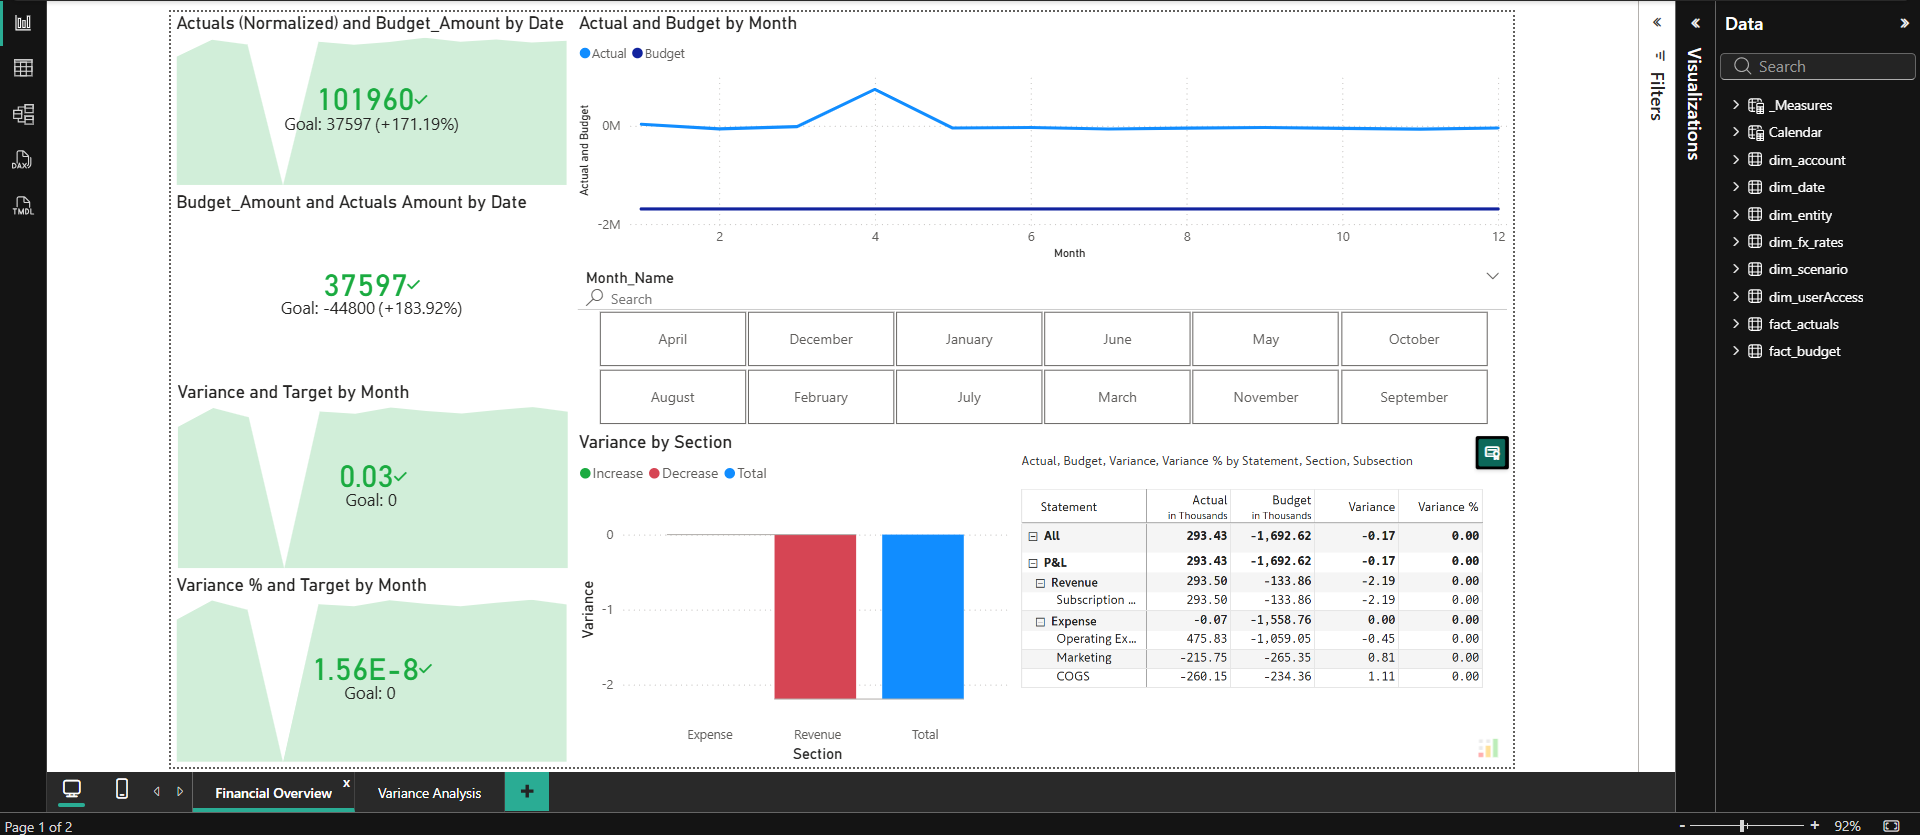

Layout of this report page (visuals, bound fields, positions):
{"tool":"powerbi","page":{"name":"Financial Overview","canvas":[1280,720],"ordinal":0},"visuals":[{"type":"kpi","fields":{"Indicator":["dim_scenario.Actuals (Normalized)"],"Goal":["dim_scenario.Budget_Amount"],"TrendLine":["dim_date.Date"]},"box":[0,0,382.5,170.2],"z":0},{"type":"kpi","fields":{"TrendLine":["dim_date.Date"],"Goal":["dim_scenario.Actuals Amount"],"Indicator":["dim_scenario.Budget_Amount"]},"box":[0,170.2,382.5,182.1],"z":1000},{"type":"kpi","fields":{"Indicator":["_Measures.Variance"],"TrendLine":["dim_date.Month"],"Goal":["_Measures.Target"]},"box":[1.1,352.3,382.5,183.2],"z":2000},{"type":"kpi","fields":{"Indicator":["_Measures.Variance %"],"Goal":["_Measures.Target"],"TrendLine":["dim_date.Month"]},"box":[0,535.5,382.5,184.2],"z":3000},{"type":"lineChart","fields":{"Y":["_Measures.Actual","_Measures.Budget"],"Category":["dim_date.Month"]},"box":[383.5,0,896.4,240.3],"z":4000},{"type":"waterfallChart","fields":{"Y":["_Measures.Variance"],"Category":["dim_account.Section"]},"box":[383.5,399.7,422.3,320],"z":5000},{"type":"inforiverAppPremium2B7A5FD2992D434DAE0B149479307B7B","fields":{"rows":["dim_account.Statement","dim_account.Section","dim_account.Subsection"],"ameasure":["_Measures.Actual","_Measures.Budget","_Measures.Variance","_Measures.Variance %"]},"box":[805.9,399.7,474,320],"z":6000},{"type":"slicer","fields":{"Values":["dim_date.Month_Name"]},"box":[382.5,240.3,896.4,159.5],"z":7000}]}

Visuals, with their boxes on the page's 1280x720 design canvas (x1, y1, x2, y2). These are canvas units, not pixel positions in the 1920x835 screenshot, which may show the page scaled, cropped or inside an application window:
kpi - dim_scenario.Actuals (Normalized) x dim_scenario.Budget_Amount: locate(0, 0, 382, 170)
kpi - dim_date.Date x dim_scenario.Actuals Amount: locate(0, 170, 382, 352)
kpi - _Measures.Variance x dim_date.Month: locate(1, 352, 384, 536)
kpi - _Measures.Variance % x _Measures.Target: locate(0, 536, 382, 720)
lineChart - _Measures.Actual x _Measures.Budget: locate(384, 0, 1280, 240)
waterfallChart - _Measures.Variance x dim_account.Section: locate(384, 400, 806, 720)
inforiverAppPremium2B7A5FD2992D434DAE0B149479307B7B - dim_account.Statement x dim_account.Section: locate(806, 400, 1280, 720)
slicer - dim_date.Month_Name: locate(382, 240, 1279, 400)
